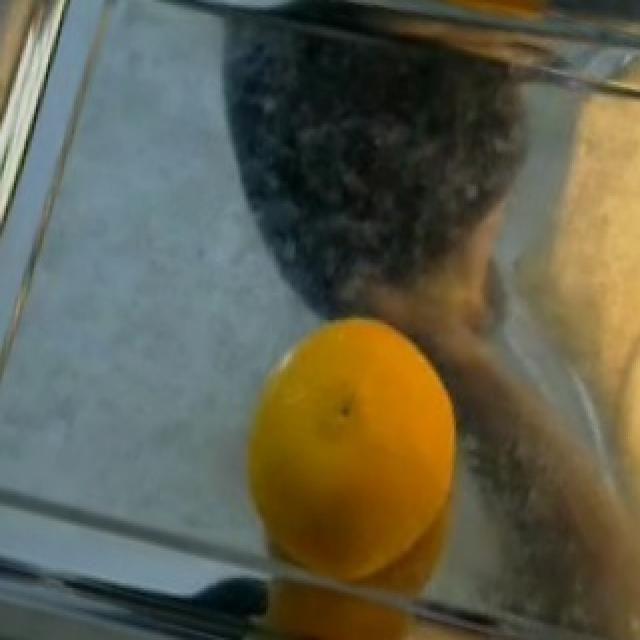Fruit: (228, 302, 482, 622), (0, 0, 52, 186)
